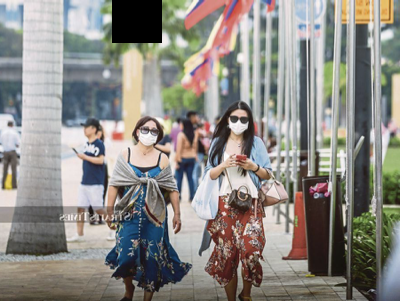with_mask: (228, 115, 249, 135), (138, 126, 159, 146)
without_mask: (83, 125, 95, 139)
